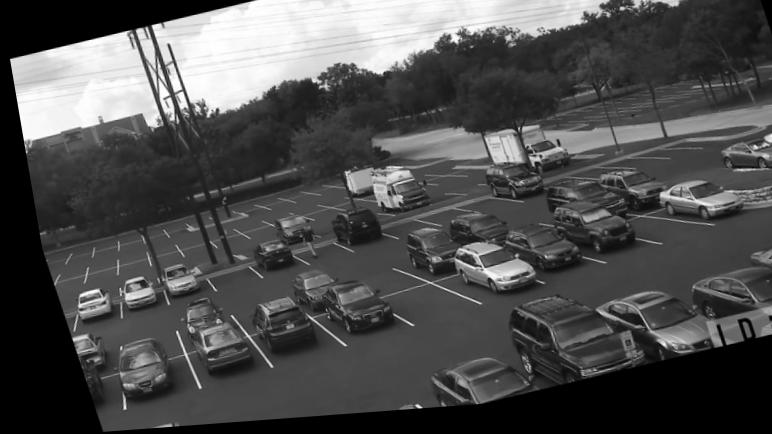empty: (373, 285, 470, 329), (296, 393, 406, 420), (619, 221, 702, 255), (196, 265, 255, 297), (344, 266, 399, 294), (110, 316, 161, 343), (408, 209, 463, 232), (221, 291, 265, 319), (288, 246, 340, 268), (453, 201, 511, 218), (376, 218, 421, 239), (624, 155, 691, 169), (504, 214, 546, 231), (109, 259, 143, 279), (168, 245, 210, 261), (202, 236, 245, 251), (192, 227, 230, 243), (77, 266, 110, 284), (298, 211, 337, 226), (222, 218, 258, 234), (600, 167, 657, 177), (140, 253, 175, 269), (45, 274, 76, 292), (562, 174, 608, 186), (409, 180, 455, 192), (139, 242, 171, 258), (131, 229, 163, 245), (78, 256, 108, 272), (109, 248, 139, 264), (282, 203, 316, 217), (233, 227, 266, 241), (154, 224, 184, 239), (250, 212, 284, 225), (166, 236, 199, 249), (309, 197, 344, 209), (304, 222, 330, 238), (111, 234, 135, 251), (223, 206, 259, 217), (327, 203, 366, 213), (51, 264, 79, 277), (75, 278, 105, 290), (230, 244, 252, 259), (48, 292, 67, 309), (86, 241, 109, 255), (254, 200, 286, 210), (39, 253, 59, 268), (279, 195, 308, 205), (301, 189, 333, 198), (62, 248, 82, 262), (41, 271, 50, 279)
occupied: (492, 301, 639, 392), (580, 298, 729, 367), (401, 357, 528, 412), (681, 275, 772, 343), (439, 245, 528, 305), (545, 208, 626, 263), (236, 300, 312, 357), (494, 229, 577, 281), (311, 283, 386, 337), (177, 319, 244, 376), (104, 338, 163, 401), (651, 191, 736, 229), (365, 171, 423, 217), (478, 166, 536, 210), (322, 212, 377, 257), (593, 180, 656, 219), (396, 236, 449, 281), (432, 220, 501, 253), (282, 273, 324, 317), (540, 188, 610, 214), (714, 148, 772, 179), (243, 242, 286, 275), (66, 357, 93, 407), (65, 288, 102, 323), (266, 218, 305, 249), (152, 267, 190, 298), (113, 279, 147, 310), (175, 302, 208, 330), (60, 334, 91, 361)
